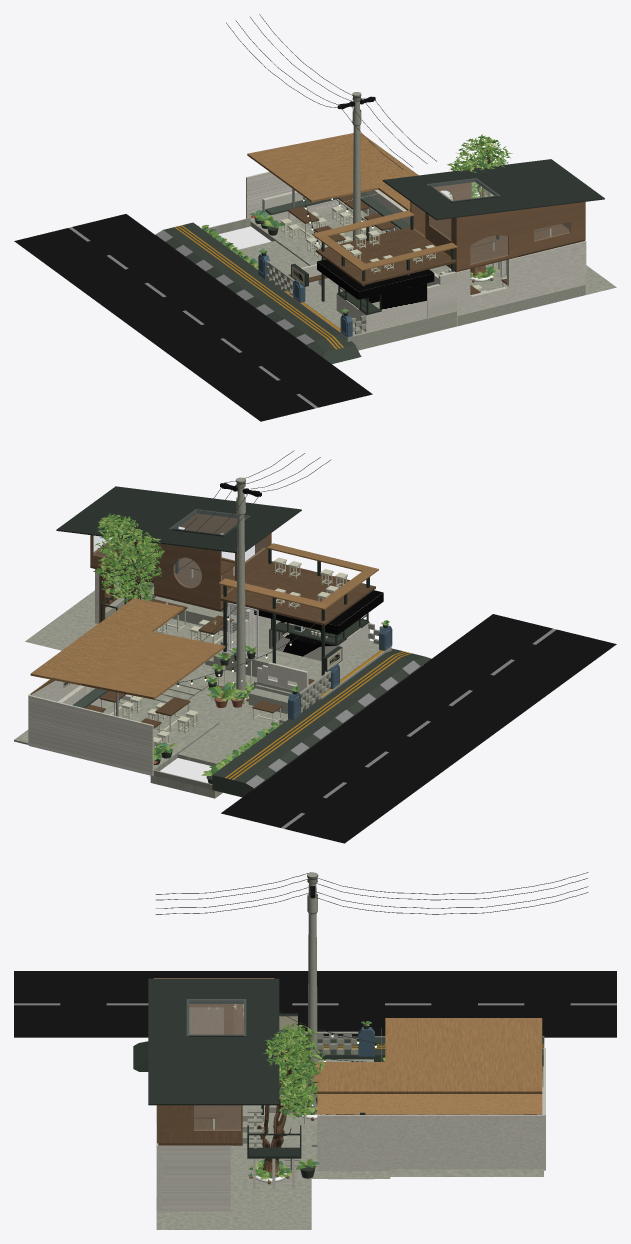
Rendered from winds-space-cafe.glb.
3 renders of one model, top to bottom at view 1: azimuth 30°, elevation 25°; view 2: azimuth 150°, elevation 25°; view 3: azimuth 270°, elevation 25°, orthographic. The views are drawn at different scales.
Visible parts, largest first — view 1: jalan poros, Plane.006, trotoar, Plane.008, Cube.013, Cube.003, floor lantai 1, Area bar, floor lantai 2 outdoor, floor lantai 1 area bar, meja atas luar, Pasui - Daun Rindang Lightweight (+9 smaller); view 2: jalan poros, floor lantai 1, Plane.008, trotoar, Plane.006, Plane.007, Cube.013, Pasui - Daun Rindang Lightweight, floor lantai 2 outdoor, Area bar, floor lantai 1 area bar, meja atas luar (+12 smaller); view 3: jalan poros, Plane.006, Plane.008, Plane.007, floor lantai 1, Cube.003, Plane.009, Pasui - Daun Rindang Lightweight, Cube.013, kaca.002, Cylinder, trotoar (+10 smaller).
Boxes of the visible parts, box(x1,y1,x2,y2) form: jalan poros: box(14, 214, 372, 421); Plane.006: box(382, 159, 604, 220); trotoar: box(155, 222, 361, 363); Plane.008: box(247, 133, 452, 210); Cube.013: box(410, 182, 585, 270); Cube.003: box(457, 241, 586, 326); floor lantai 1: box(206, 206, 616, 350); Area bar: box(317, 259, 434, 332); floor lantai 2 outdoor: box(315, 227, 456, 285); floor lantai 1 area bar: box(284, 280, 456, 350); meja atas luar: box(312, 210, 457, 270); Pasui - Daun Rindang Lightweight: box(447, 134, 512, 200); jalan poros: box(221, 614, 616, 843); floor lantai 1: box(14, 590, 286, 798); Plane.008: box(30, 598, 225, 699); trotoar: box(212, 648, 431, 797); Plane.006: box(56, 486, 301, 553); Plane.007: box(29, 679, 153, 775); Cube.013: box(90, 513, 271, 609); Pasui - Daun Rindang Lightweight: box(93, 513, 164, 602); floor lantai 2 outdoor: box(220, 561, 375, 625); Area bar: box(254, 590, 383, 663); floor lantai 1 area bar: box(205, 620, 391, 699); meja atas luar: box(218, 543, 378, 609); jalan poros: box(14, 971, 616, 1037); Plane.006: box(148, 978, 279, 1105); Plane.008: box(313, 1018, 542, 1093); Plane.007: box(317, 1048, 545, 1171); floor lantai 1: box(156, 1066, 543, 1229); Cube.003: box(157, 1143, 230, 1211); Plane.009: box(317, 1094, 542, 1114); Pasui - Daun Rindang Lightweight: box(263, 1022, 325, 1118); Cube.013: box(157, 1004, 242, 1143); kaca.002: box(187, 999, 245, 1035); Cylinder: box(307, 872, 318, 1114); trotoar: box(133, 1036, 544, 1071).
Size of the model in its own units: 16.15 by 8.28 by 16.65.
Materials: 87 (64 with a texture image).
